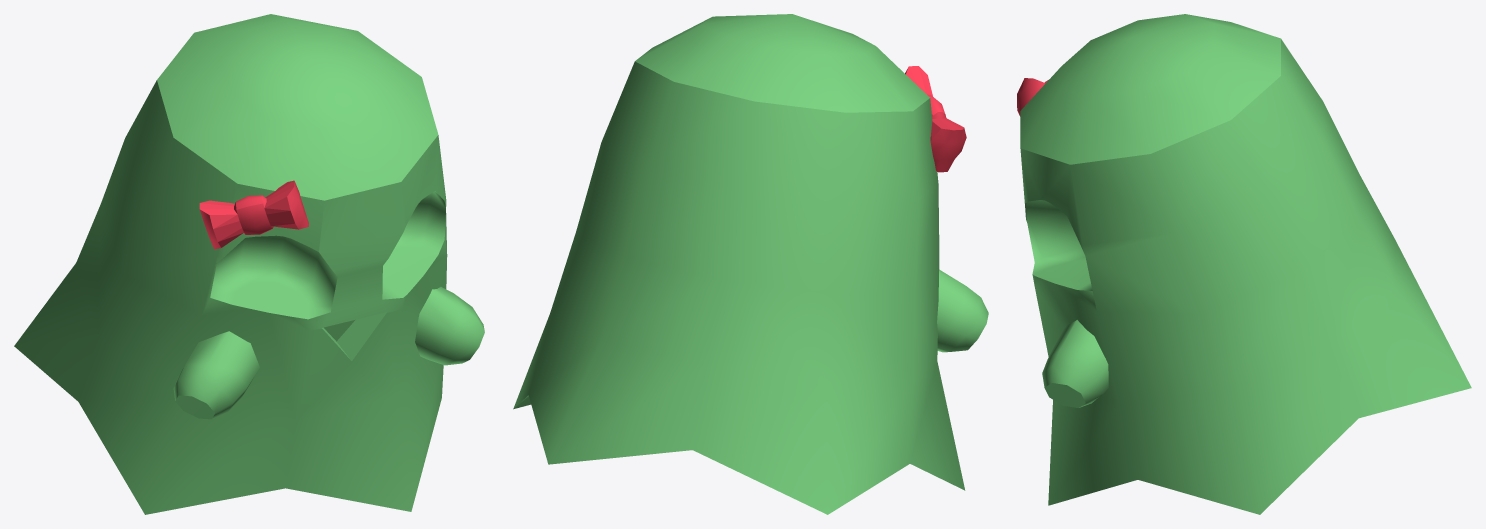
File: Ghost02.fbx
3 views of the same model, side by side, from view 1: azimuth 30°, elevation 25°; view 2: azimuth 150°, elevation 25°; view 3: azimuth 270°, elevation 25° (orthographic). The views are drawn at different scales.
Parts seen in each view (by area): view 1: Ghost02; view 2: Ghost02; view 3: Ghost02.
Part boxes in pixels (left/top/right/bottom): Ghost02: left=14, top=14, right=484, bottom=514; Ghost02: left=513, top=14, right=988, bottom=514; Ghost02: left=1017, top=14, right=1471, bottom=514.
Bounding box in the file's own units: 15.64 × 17.71 × 16.56.
